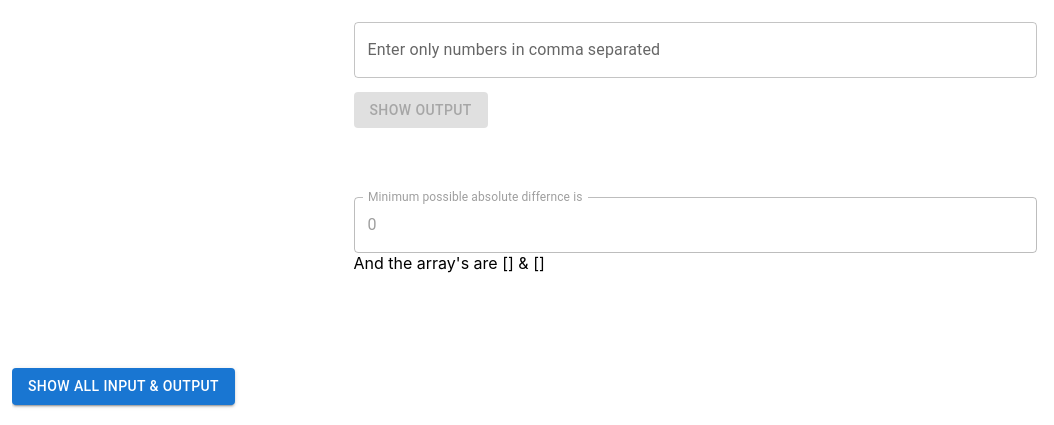
Test Question two Component › Test minimizeArrayAbsSumDifference
This screenshot has width=1054, height=425.
Type "2,4,5,6" into the field labelled "Enter only numbers in comma separated" at [695, 50], box [354,22,1036,78]
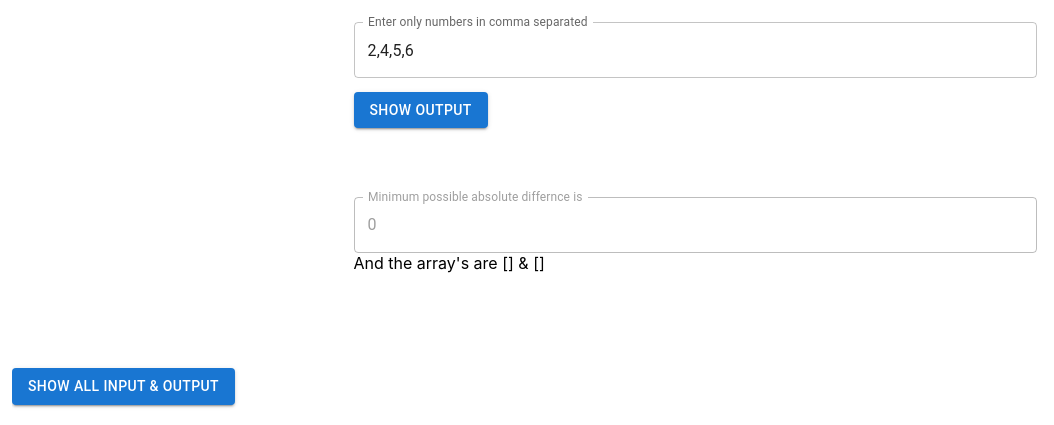
Click the button with test id "show-output" at [421, 110], box [354,92,488,128]
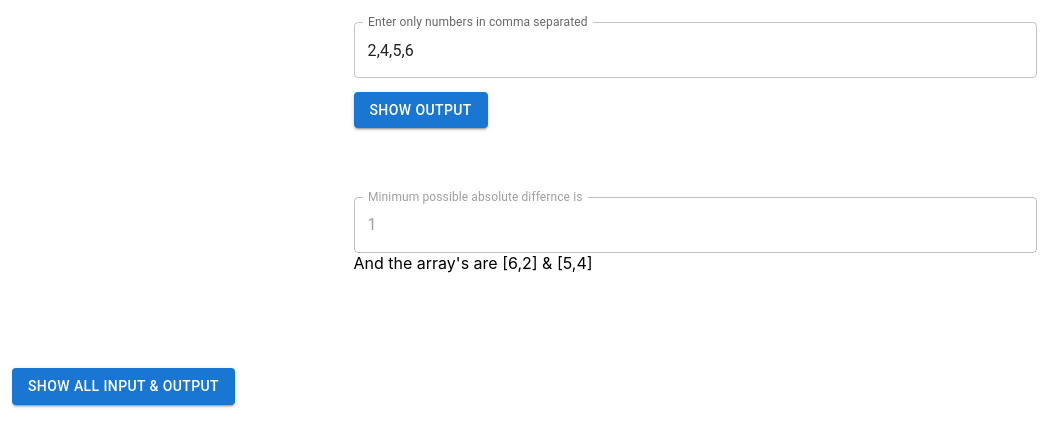
Result: the field labelled "Minimum possible absolute differnce is" holds "1" at [354,197,1036,253]
